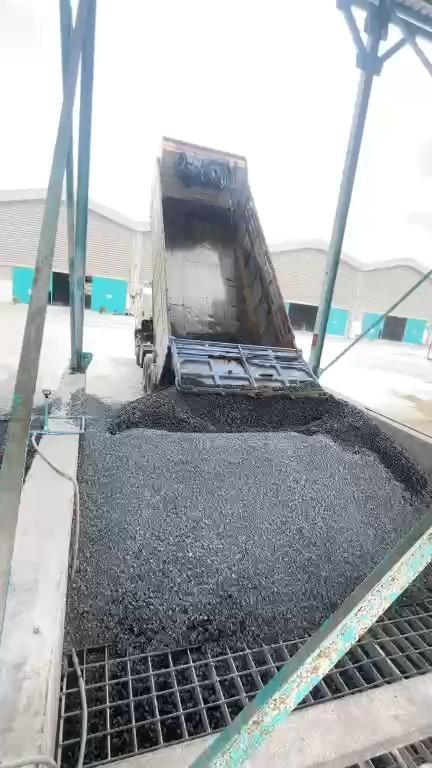gravel: (67, 406, 426, 648), (68, 376, 425, 490), (185, 248, 259, 343), (399, 566, 431, 602)
sand: (406, 395, 431, 436)
